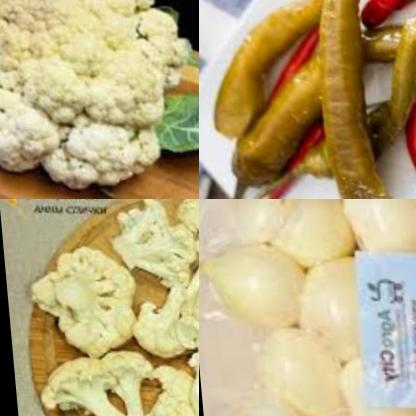cayliflower: (0, 199, 199, 416), (0, 0, 199, 187)
hot pepper: (208, 13, 416, 182), (290, 0, 408, 199), (199, 0, 336, 144), (373, 47, 416, 184)
onion: (199, 199, 416, 416)
